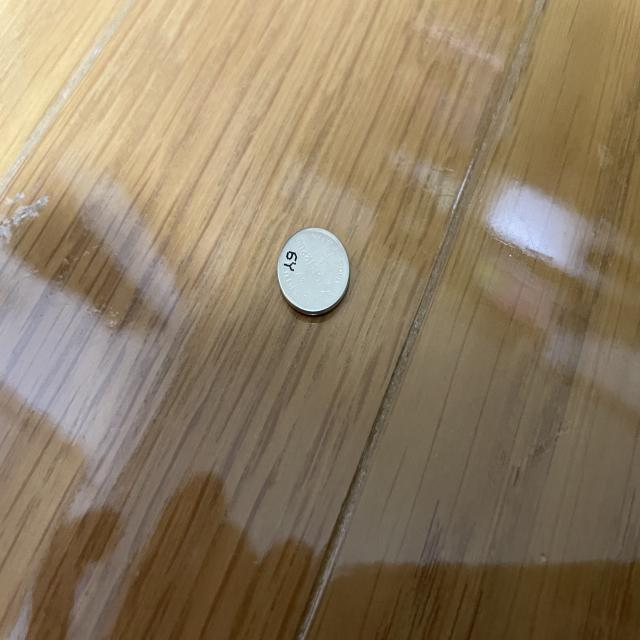COIN: (276, 227, 350, 319)
